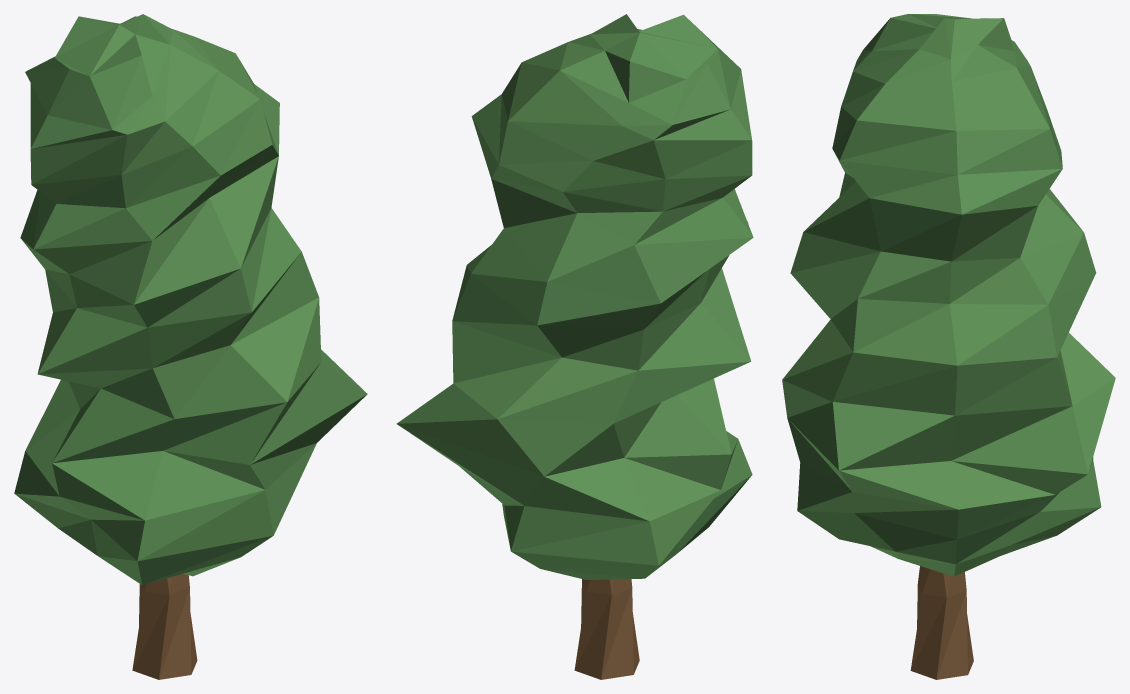
Rendered from tree3d-107.glb.
3 renders of one model, left to right at view 1: azimuth 30°, elevation 25°; view 2: azimuth 150°, elevation 25°; view 3: azimuth 270°, elevation 25°, orthographic. The views are drawn at different scales.
Visible parts, largest first — view 1: tree3d-107; view 2: tree3d-107; view 3: tree3d-107.
Boxes of the visible parts, x1,y1,x2,y2 form: tree3d-107: (14, 14, 367, 679); tree3d-107: (396, 14, 753, 679); tree3d-107: (782, 14, 1115, 679).
Bounding box in the file's own units: 0.4616 × 1 × 0.474.
